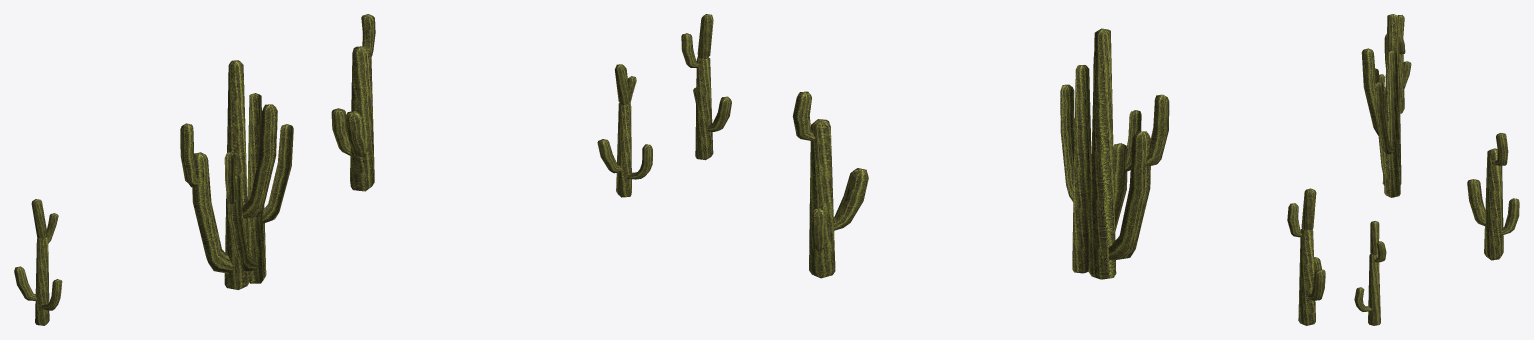
The model's file is props_desert_cactus.FBX.
3 views of the same model, side by side, from view 1: azimuth 30°, elevation 25°; view 2: azimuth 150°, elevation 25°; view 3: azimuth 270°, elevation 25° (orthographic). The views are drawn at different scales.
Visible parts, largest first — view 1: prop_Cactus_C, prop_Cactus_B; view 2: prop_Cactus_C, prop_Cactus_B; view 3: prop_Cactus_C, prop_Cactus_B.
Part boxes in pixels (x1,y1,x2,y2): prop_Cactus_C: [180, 14, 652, 289]; prop_Cactus_B: [14, 93, 293, 325]; prop_Cactus_C: [681, 14, 1169, 279]; prop_Cactus_B: [1060, 65, 1325, 325]; prop_Cactus_C: [1354, 14, 1519, 325]; prop_Cactus_B: [1374, 15, 1411, 197].
Bounding box in the file's own units: 1248 × 441 × 382.
1 material, 1 textured.
